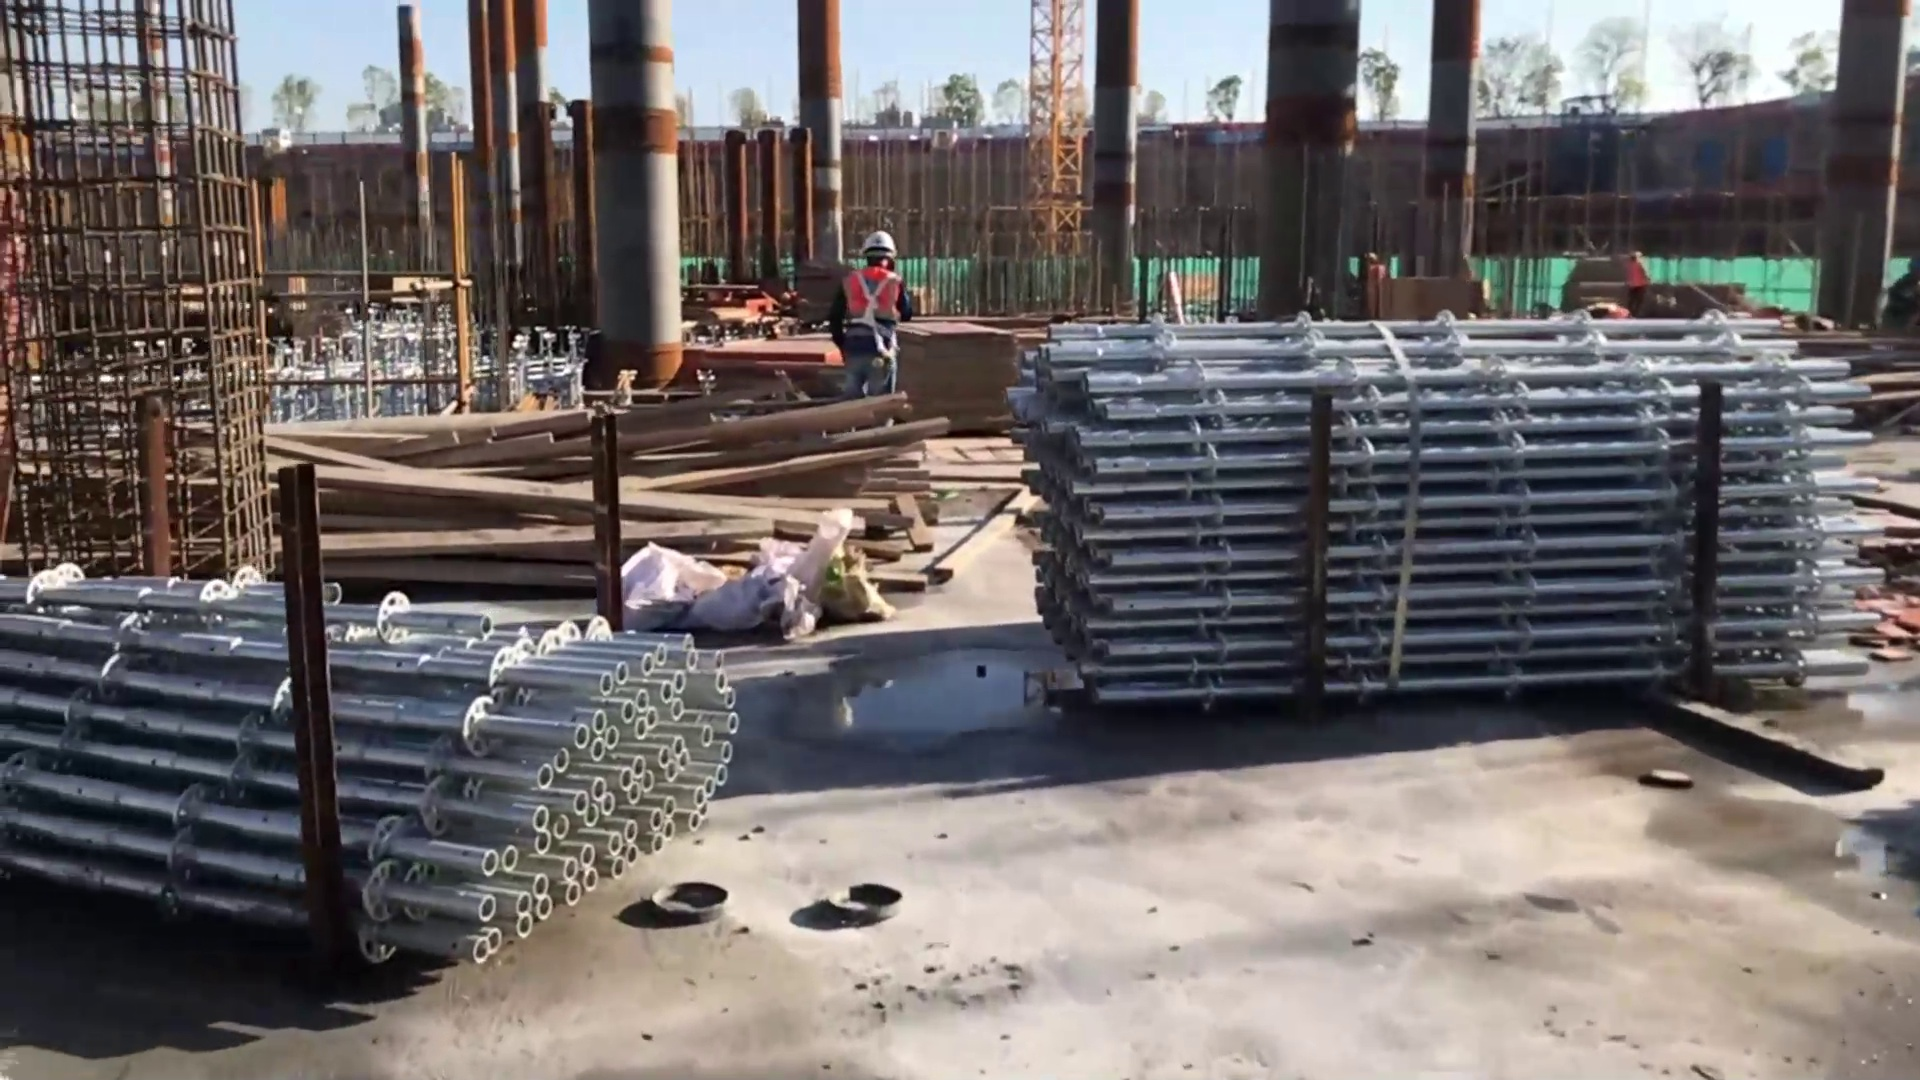helmet: (857, 229, 899, 254)
person: (838, 227, 913, 406)
scaffold: (1015, 315, 1885, 691), (2, 562, 740, 958)
vest: (845, 266, 900, 354)
wood: (282, 387, 958, 579)
